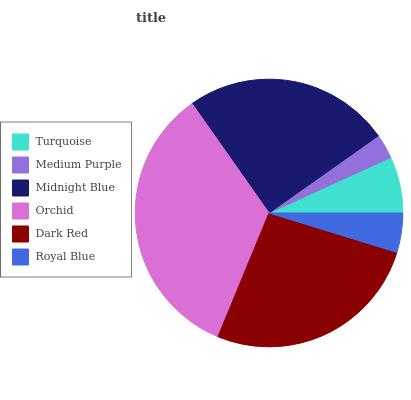legend: (0, 119, 131, 278)
sector: (134, 103, 269, 337), (216, 212, 398, 348), (194, 78, 378, 212), (268, 135, 391, 213), (270, 158, 403, 212), (269, 211, 404, 252)
